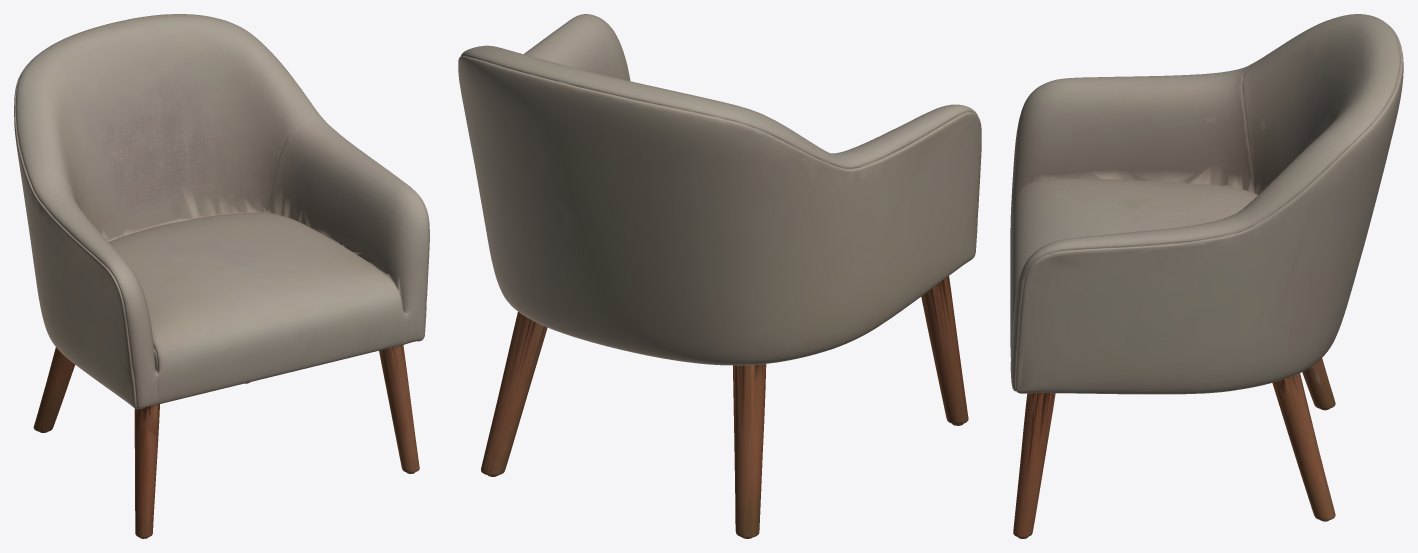
3 views of the same model, side by side, from view 1: azimuth 30°, elevation 25°; view 2: azimuth 150°, elevation 25°; view 3: azimuth 270°, elevation 25° (orthographic). The views are drawn at different scales.
Parts seen in each view (by area): view 1: material; view 2: material; view 3: material.
Part boxes in pixels (box(x1,y1,x2,y2)): material: box(14, 14, 429, 538); material: box(458, 14, 981, 538); material: box(1010, 14, 1403, 538).
Size of the model in its own units: 0.709 by 0.7864 by 0.6866.
Materials: 1 (1 with a texture image).
